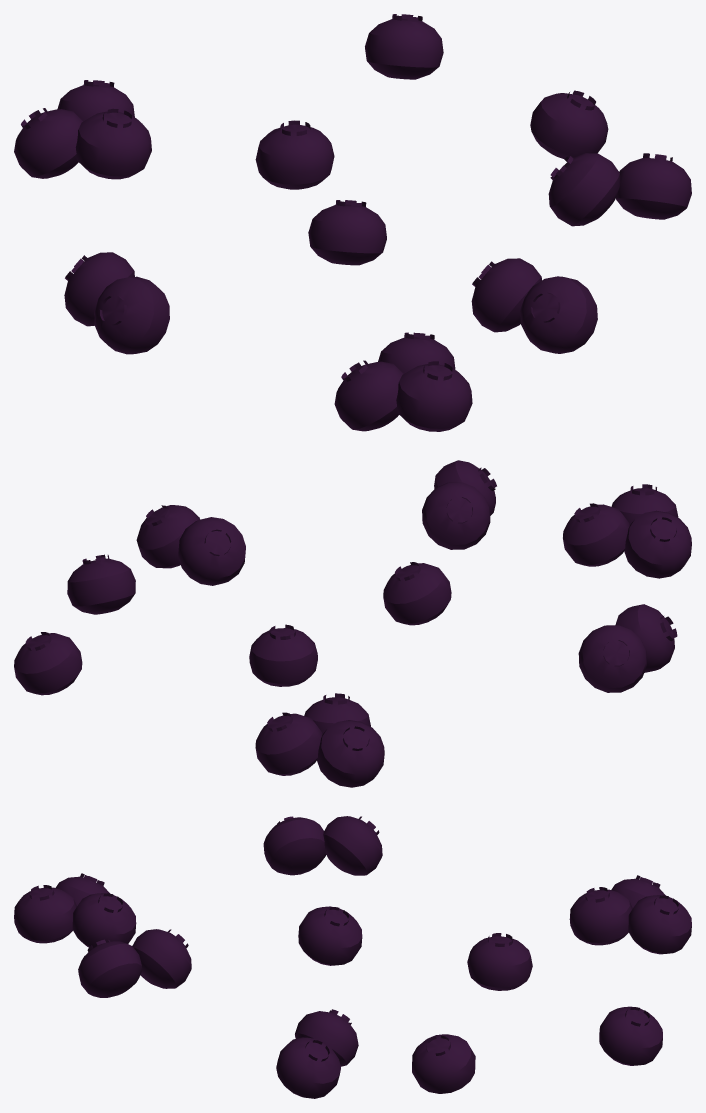
Rendered from cakeDecorBlueberry.glb.
3 views of the same model, one above another, from view 1: azimuth 30°, elevation 25°; view 2: azimuth 150°, elevation 25°; view 3: azimuth 270°, elevation 25° (orthographic). The views are drawn at different scales.
Parts seen in each view (by area): view 1: Sphere.010, Sphere.008, Sphere.004, Sphere.012, Sphere.015, Sphere.014, Sphere.002, Sphere.006, Sphere.001, Sphere, Sphere.011, Sphere.003 (+4 smaller); view 2: Sphere.001, Sphere.009, Sphere.007, Sphere.003, Sphere.011, Sphere.006, Sphere.002, Sphere.015, Sphere.013, Sphere.005, Sphere.014, Sphere (+4 smaller); view 3: Sphere, Sphere.014, Sphere.006, Sphere.005, Sphere.002, Sphere.015, Sphere.008, Sphere.010, Sphere.012, Sphere.004, Sphere.007, Sphere.013 (+4 smaller).
Boxes of the visible parts, x1,y1,x2,y2 form: Sphere.010: [520, 276, 597, 353]; Sphere.008: [94, 276, 169, 354]; Sphere.004: [75, 108, 151, 179]; Sphere.012: [396, 361, 472, 431]; Sphere.015: [255, 120, 334, 189]; Sphere.014: [530, 90, 608, 158]; Sphere.002: [365, 14, 443, 79]; Sphere.006: [308, 200, 386, 265]; Sphere.001: [548, 153, 620, 226]; Sphere: [616, 153, 691, 219]; Sphere.011: [334, 360, 403, 431]; Sphere.003: [14, 108, 83, 178]; Sphere.001: [178, 517, 245, 585]; Sphere.009: [422, 482, 490, 549]; Sphere.007: [578, 625, 646, 692]; Sphere.003: [317, 720, 384, 787]; Sphere.011: [624, 510, 691, 578]; Sphere.006: [383, 562, 451, 625]; Sphere.002: [14, 632, 82, 695]; Sphere.015: [249, 624, 317, 686]; Sphere.013: [563, 503, 629, 566]; Sphere.005: [255, 712, 322, 775]; Sphere.014: [67, 554, 135, 614]; Sphere: [136, 505, 200, 568]; Sphere: [276, 1037, 340, 1098]; Sphere.014: [412, 1034, 475, 1093]; Sphere.006: [298, 906, 362, 965]; Sphere.005: [628, 895, 691, 954]; Sphere.002: [599, 1006, 662, 1065]; Sphere.015: [467, 933, 532, 990]; Sphere.008: [263, 816, 326, 875]; Sphere.010: [78, 939, 142, 997]; Sphere.012: [14, 885, 76, 943]; Sphere.004: [569, 887, 632, 945]; Sphere.007: [323, 816, 382, 875]; Sphere.013: [72, 893, 136, 947].
Size of the model in its own units: 1.2 by 0.1689 by 1.42.
